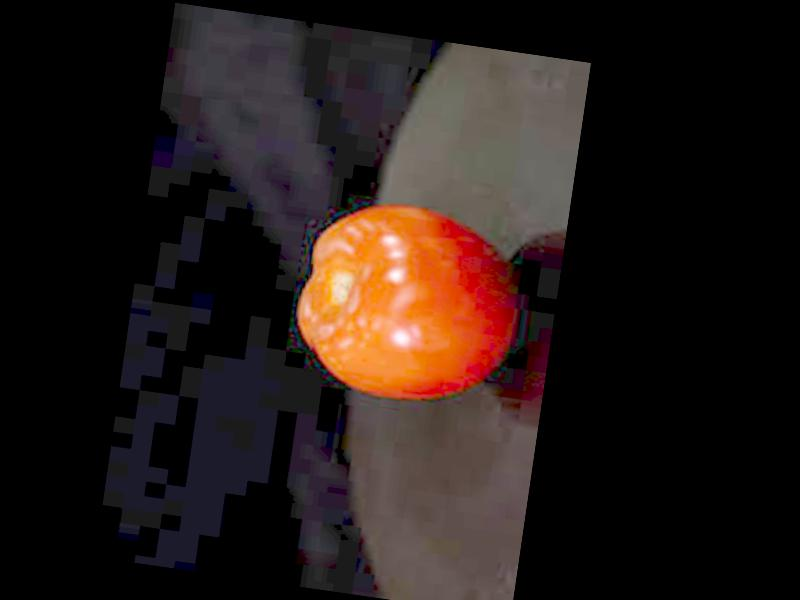Tomato: (286, 193, 525, 415)
